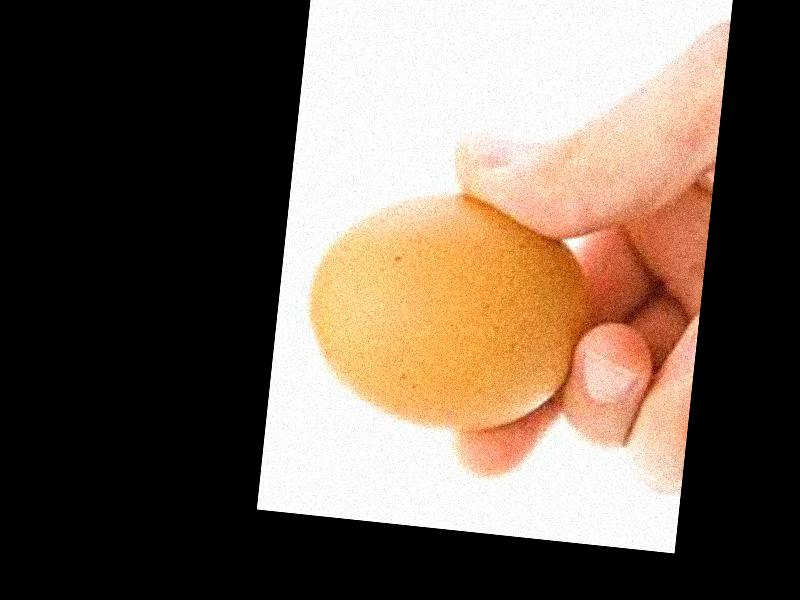Eggs: (295, 179, 592, 443)
